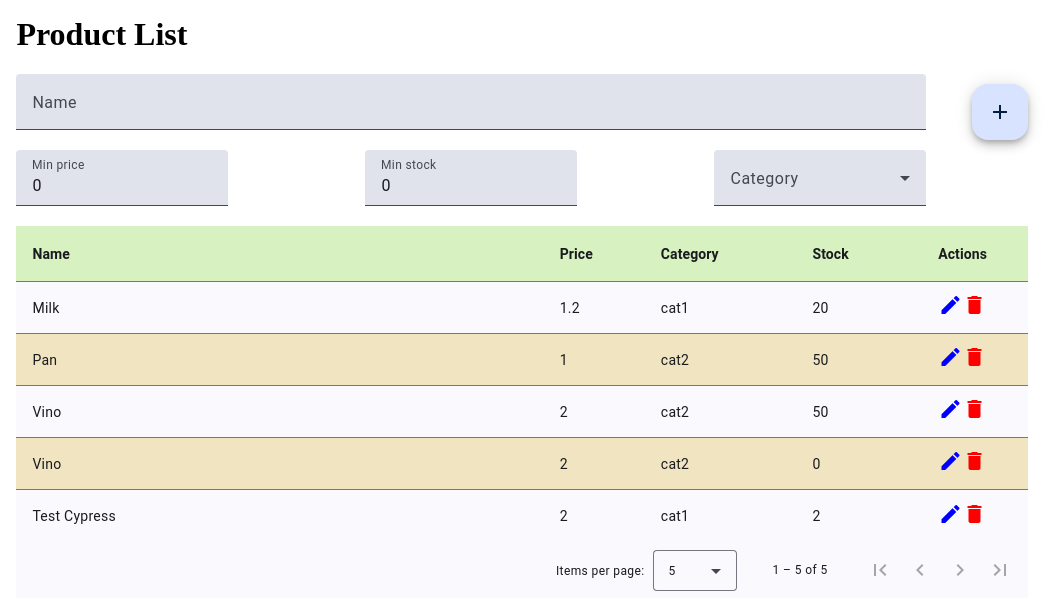
template spec › Goto edit product page
The image size is (1051, 608).
Type "Test Cypress" into the search field with id "filter_name" at [471, 110], box [32, 98, 910, 122]
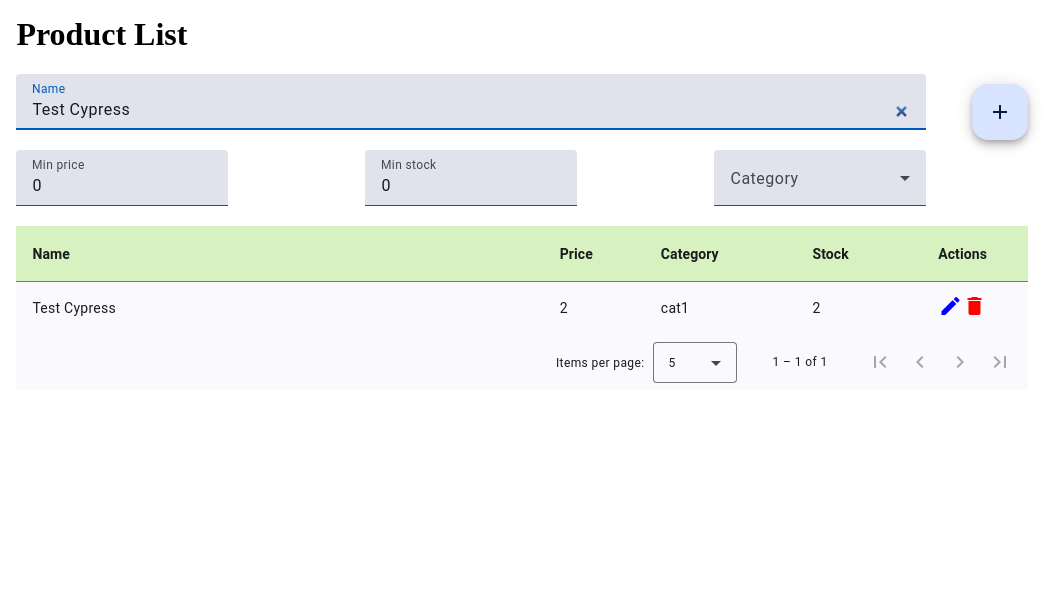
Now the text "1 – 1 of 1" is shown, box [773, 354, 828, 370]
Click the 1st picture with class "icon-pointer" at [951, 306], box [939, 294, 963, 318]
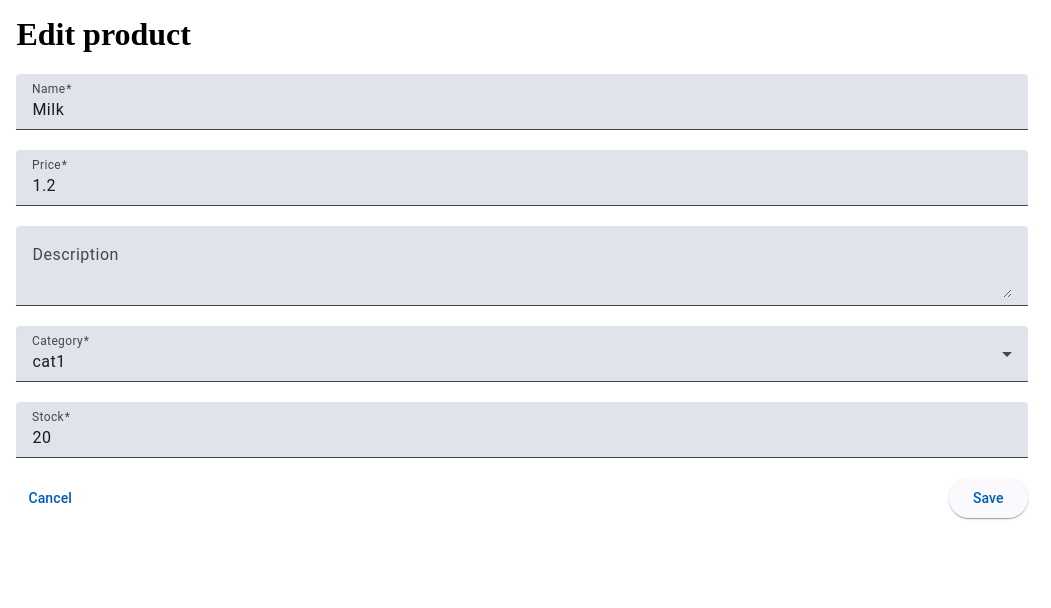
Now the heading "Edit product" is shown, box [16, 16, 191, 52]
